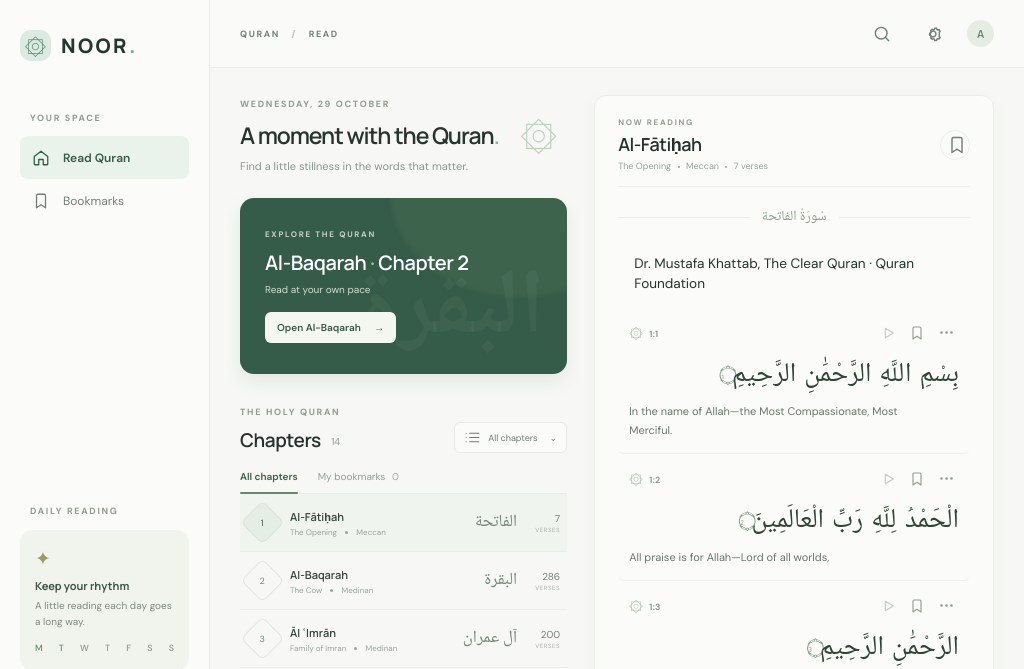
Test: Quran reader saved verse removal › shows the empty bookmarks message when the last saved verse is unbookmarked
Expected: the heading "Al-Fātiḥah" is shown, [618,132,702,156]
Click the button named "Bookmark verse 1".
click(916, 333)  # box [903,320,930,346]
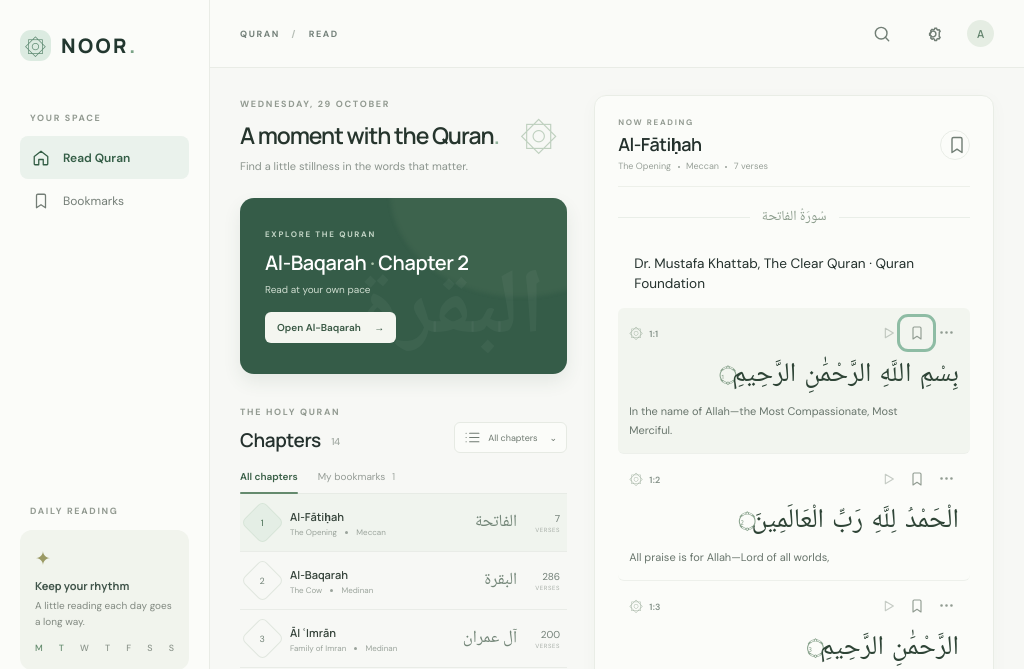
Click the button "My bookmarks 1".
click(356, 482)  # box [318,470,395,493]
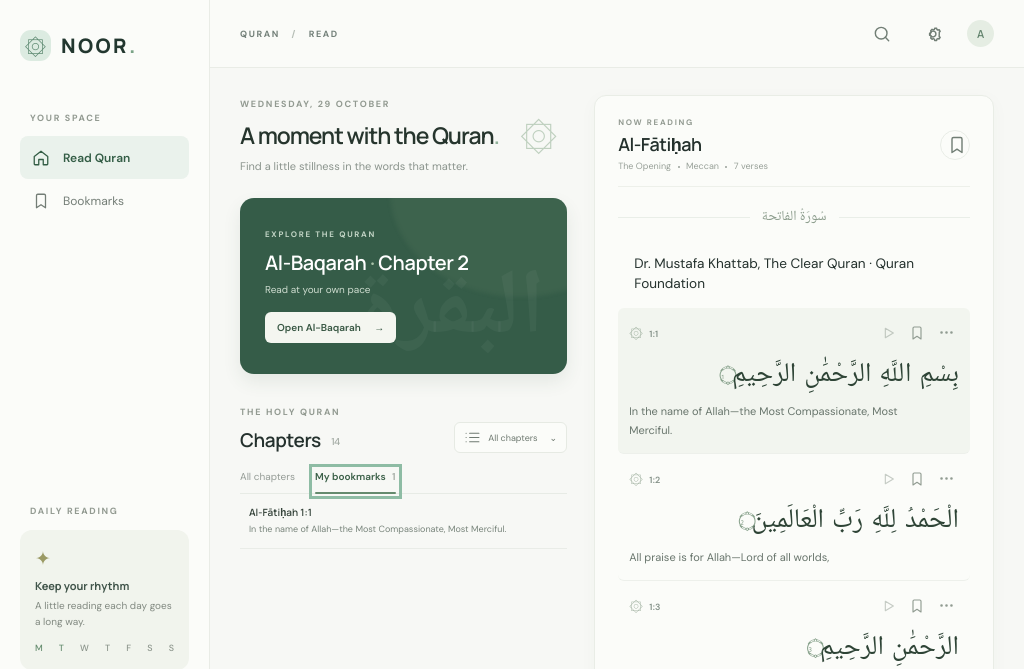
Click the button "Al-Fātiḥah 1:1".
click(404, 521)  # box [240,494,567,548]
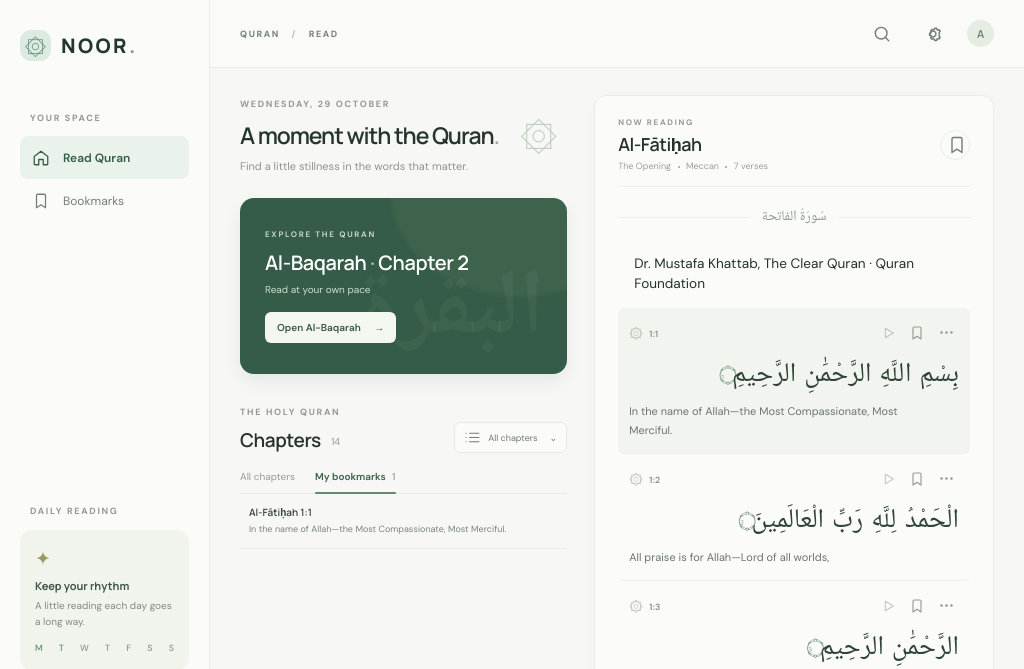
Click the button named "Bookmark verse 1".
click(916, 333)  # box [903,320,930,346]
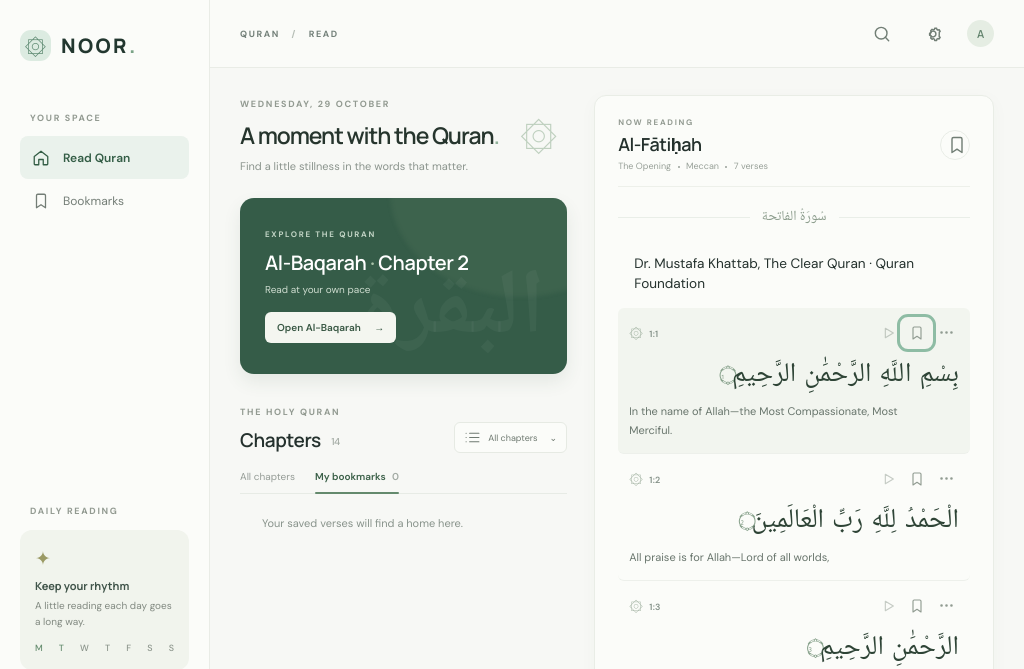
Expected: the text "Your saved verses will find a home here." is shown, [262,516,463,530]
